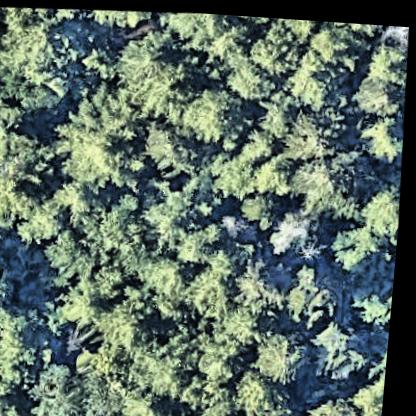tree-top: (58, 83, 154, 189), (0, 10, 72, 113), (80, 193, 160, 281), (289, 149, 368, 225), (138, 173, 218, 248), (118, 23, 193, 95), (180, 252, 247, 327), (0, 292, 52, 385), (92, 290, 160, 361), (136, 325, 201, 398), (178, 80, 244, 147), (141, 117, 207, 184), (284, 254, 348, 323), (200, 314, 261, 385), (158, 8, 240, 59), (283, 100, 349, 163), (314, 312, 372, 379), (135, 251, 193, 317), (265, 201, 326, 262), (284, 47, 344, 108), (40, 357, 102, 416), (0, 131, 66, 184), (209, 142, 267, 201), (257, 323, 311, 386), (223, 49, 284, 103), (19, 188, 73, 248), (306, 16, 369, 66), (249, 22, 307, 76), (350, 344, 393, 416), (175, 215, 227, 272), (236, 367, 296, 416), (356, 107, 408, 162), (236, 257, 292, 308), (359, 177, 405, 237), (351, 274, 398, 331), (348, 66, 404, 113), (334, 220, 385, 268), (84, 364, 130, 416), (361, 35, 409, 79), (307, 382, 368, 416), (46, 228, 89, 274), (0, 170, 31, 231), (125, 380, 175, 416), (77, 39, 118, 82), (85, 7, 152, 33), (191, 389, 245, 416), (0, 374, 31, 416), (380, 20, 409, 49)
